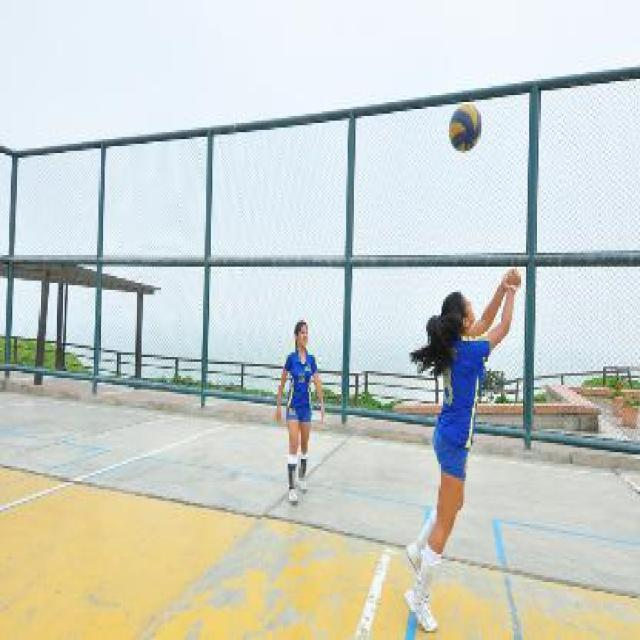volleyball: (450, 105, 482, 152)
